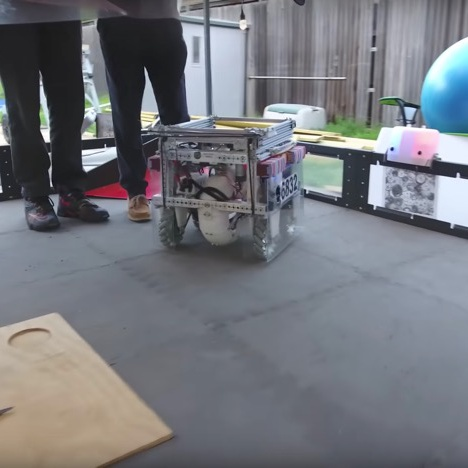robot: (138, 113, 309, 268)
yogaball: (416, 33, 468, 134)
